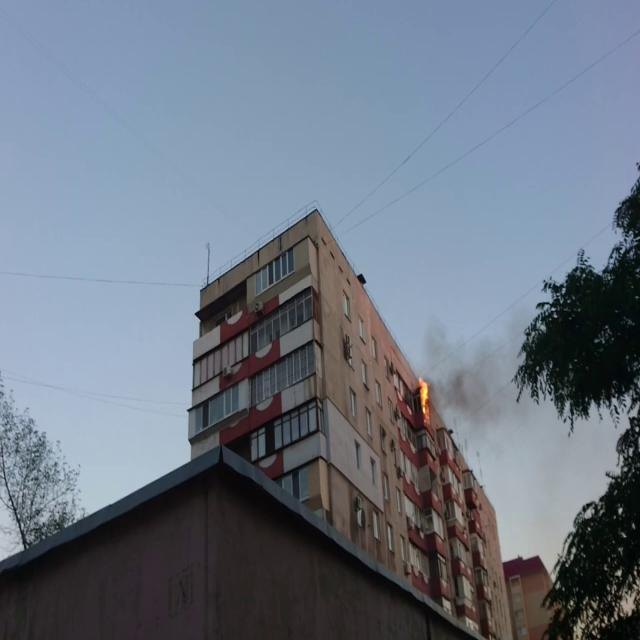Fire: (418, 370, 431, 428)
Smoke: (423, 317, 511, 454)
